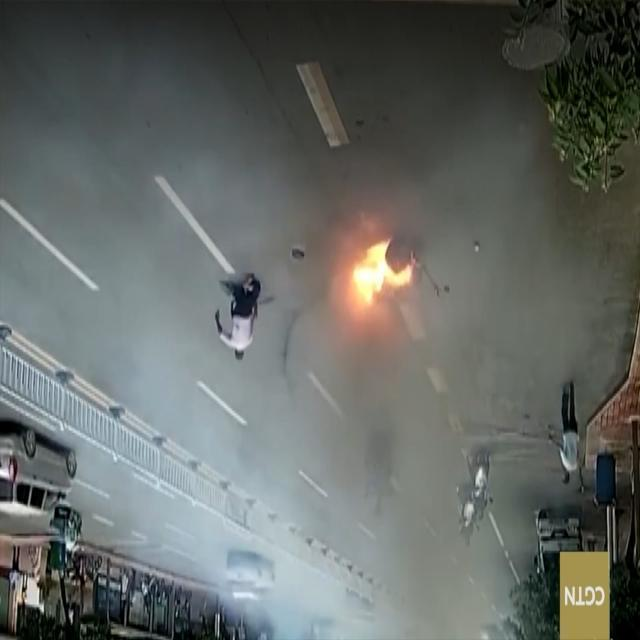fire: (334, 234, 422, 332)
